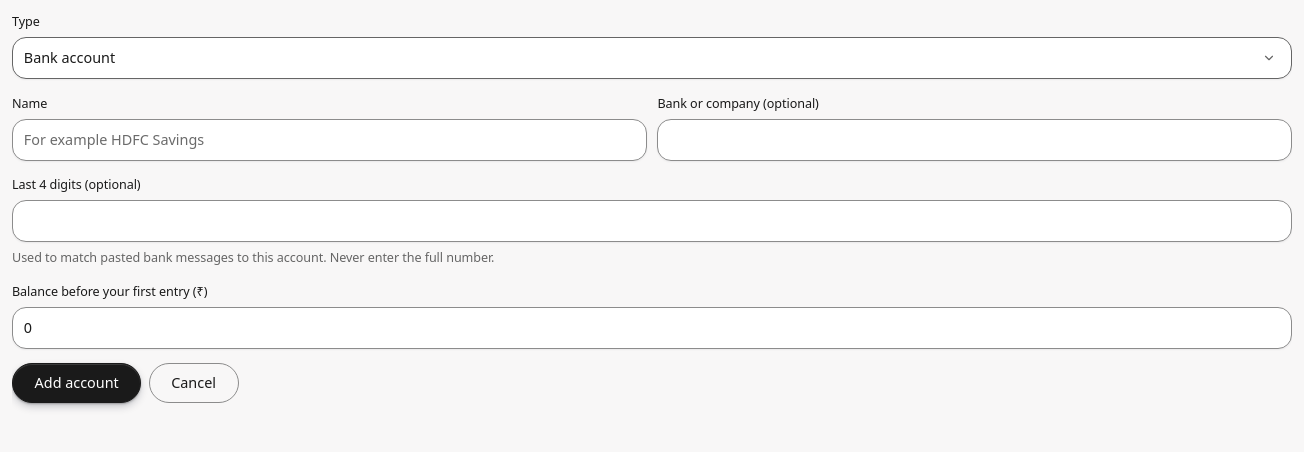
Scenario: AccountForm › shows field errors without saving when the form is invalid
The width and height of the screenshot is (1304, 452).
Click the button "Add account" at [77, 383], box [12,363,141,403]
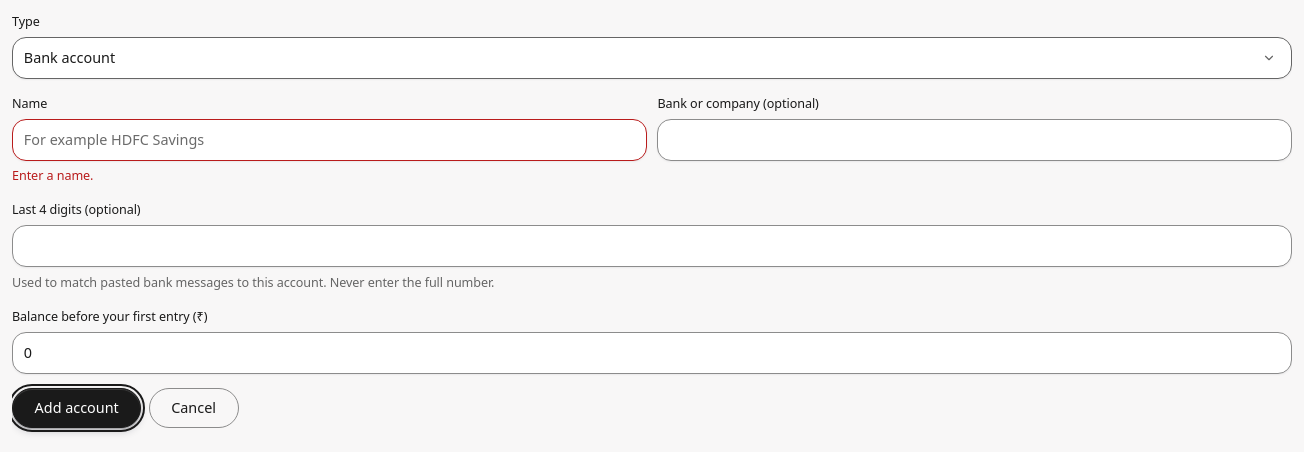
Now the text "Enter a name." is shown, box [12,167,93,184]
